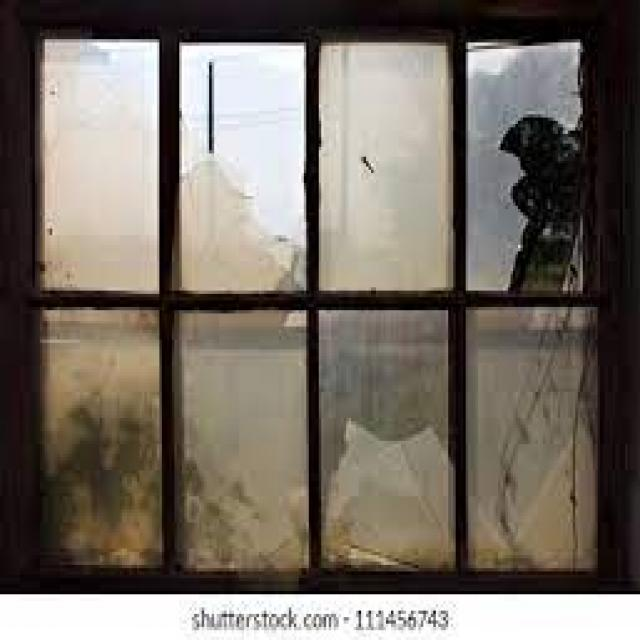Window: (30, 34, 613, 586)
